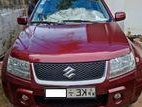car: (1, 0, 141, 106)
